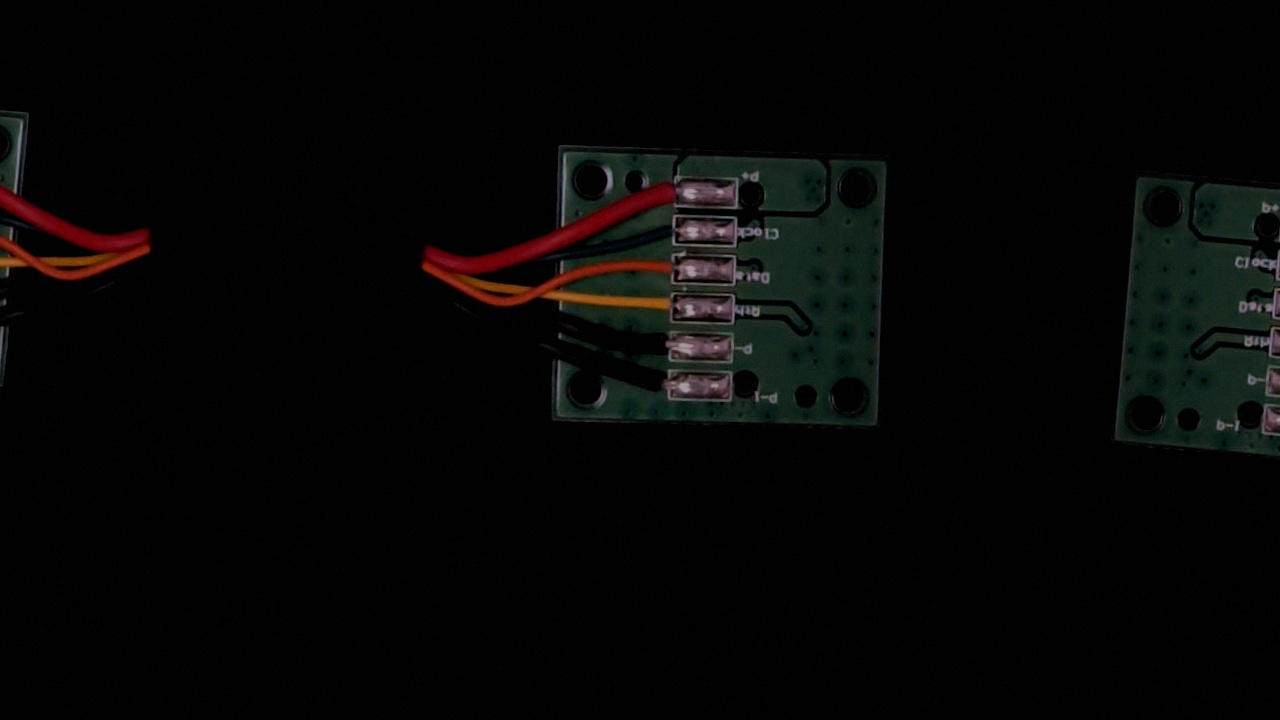Black: (630, 328, 688, 361)
Black1: (621, 367, 685, 399)
Green: (632, 212, 696, 246)
Orange: (624, 250, 693, 283)
Red: (638, 174, 697, 208)
Yellow: (625, 290, 691, 321)
